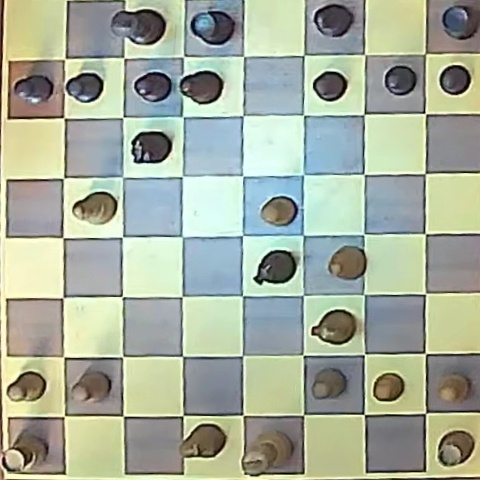black-bishop: (179, 70, 222, 104), (313, 4, 353, 38)
black-king: (112, 8, 165, 45)
black-knight: (253, 249, 296, 285), (131, 131, 171, 163)
black-pawn: (133, 71, 172, 102), (66, 72, 104, 103), (14, 75, 54, 104), (384, 65, 417, 95), (313, 71, 347, 100), (439, 65, 471, 95)
black-rook: (189, 10, 234, 45), (441, 5, 478, 40)
white-bishop: (73, 192, 116, 224), (328, 246, 367, 281)
white-king: (243, 430, 293, 476)
white-knight: (180, 424, 226, 458), (311, 310, 355, 345)
white-pawn: (6, 371, 46, 402), (71, 372, 110, 403), (260, 196, 296, 226), (312, 369, 345, 399), (373, 373, 404, 402), (438, 375, 469, 403)
white-rook: (3, 434, 47, 472), (437, 431, 474, 467)
